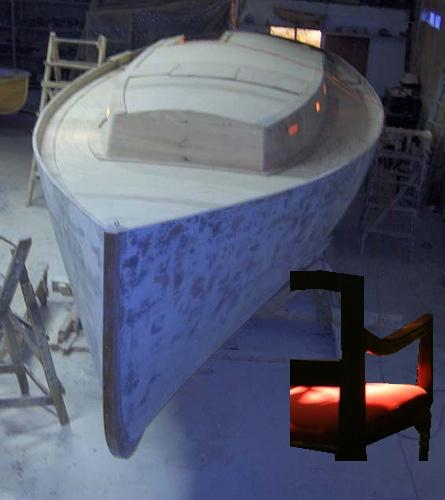tampered: (291, 271, 433, 461)
